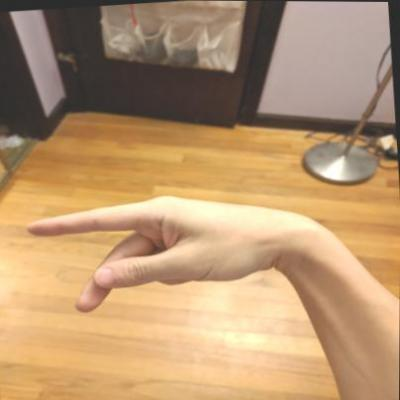hand: (20, 184, 286, 323)
